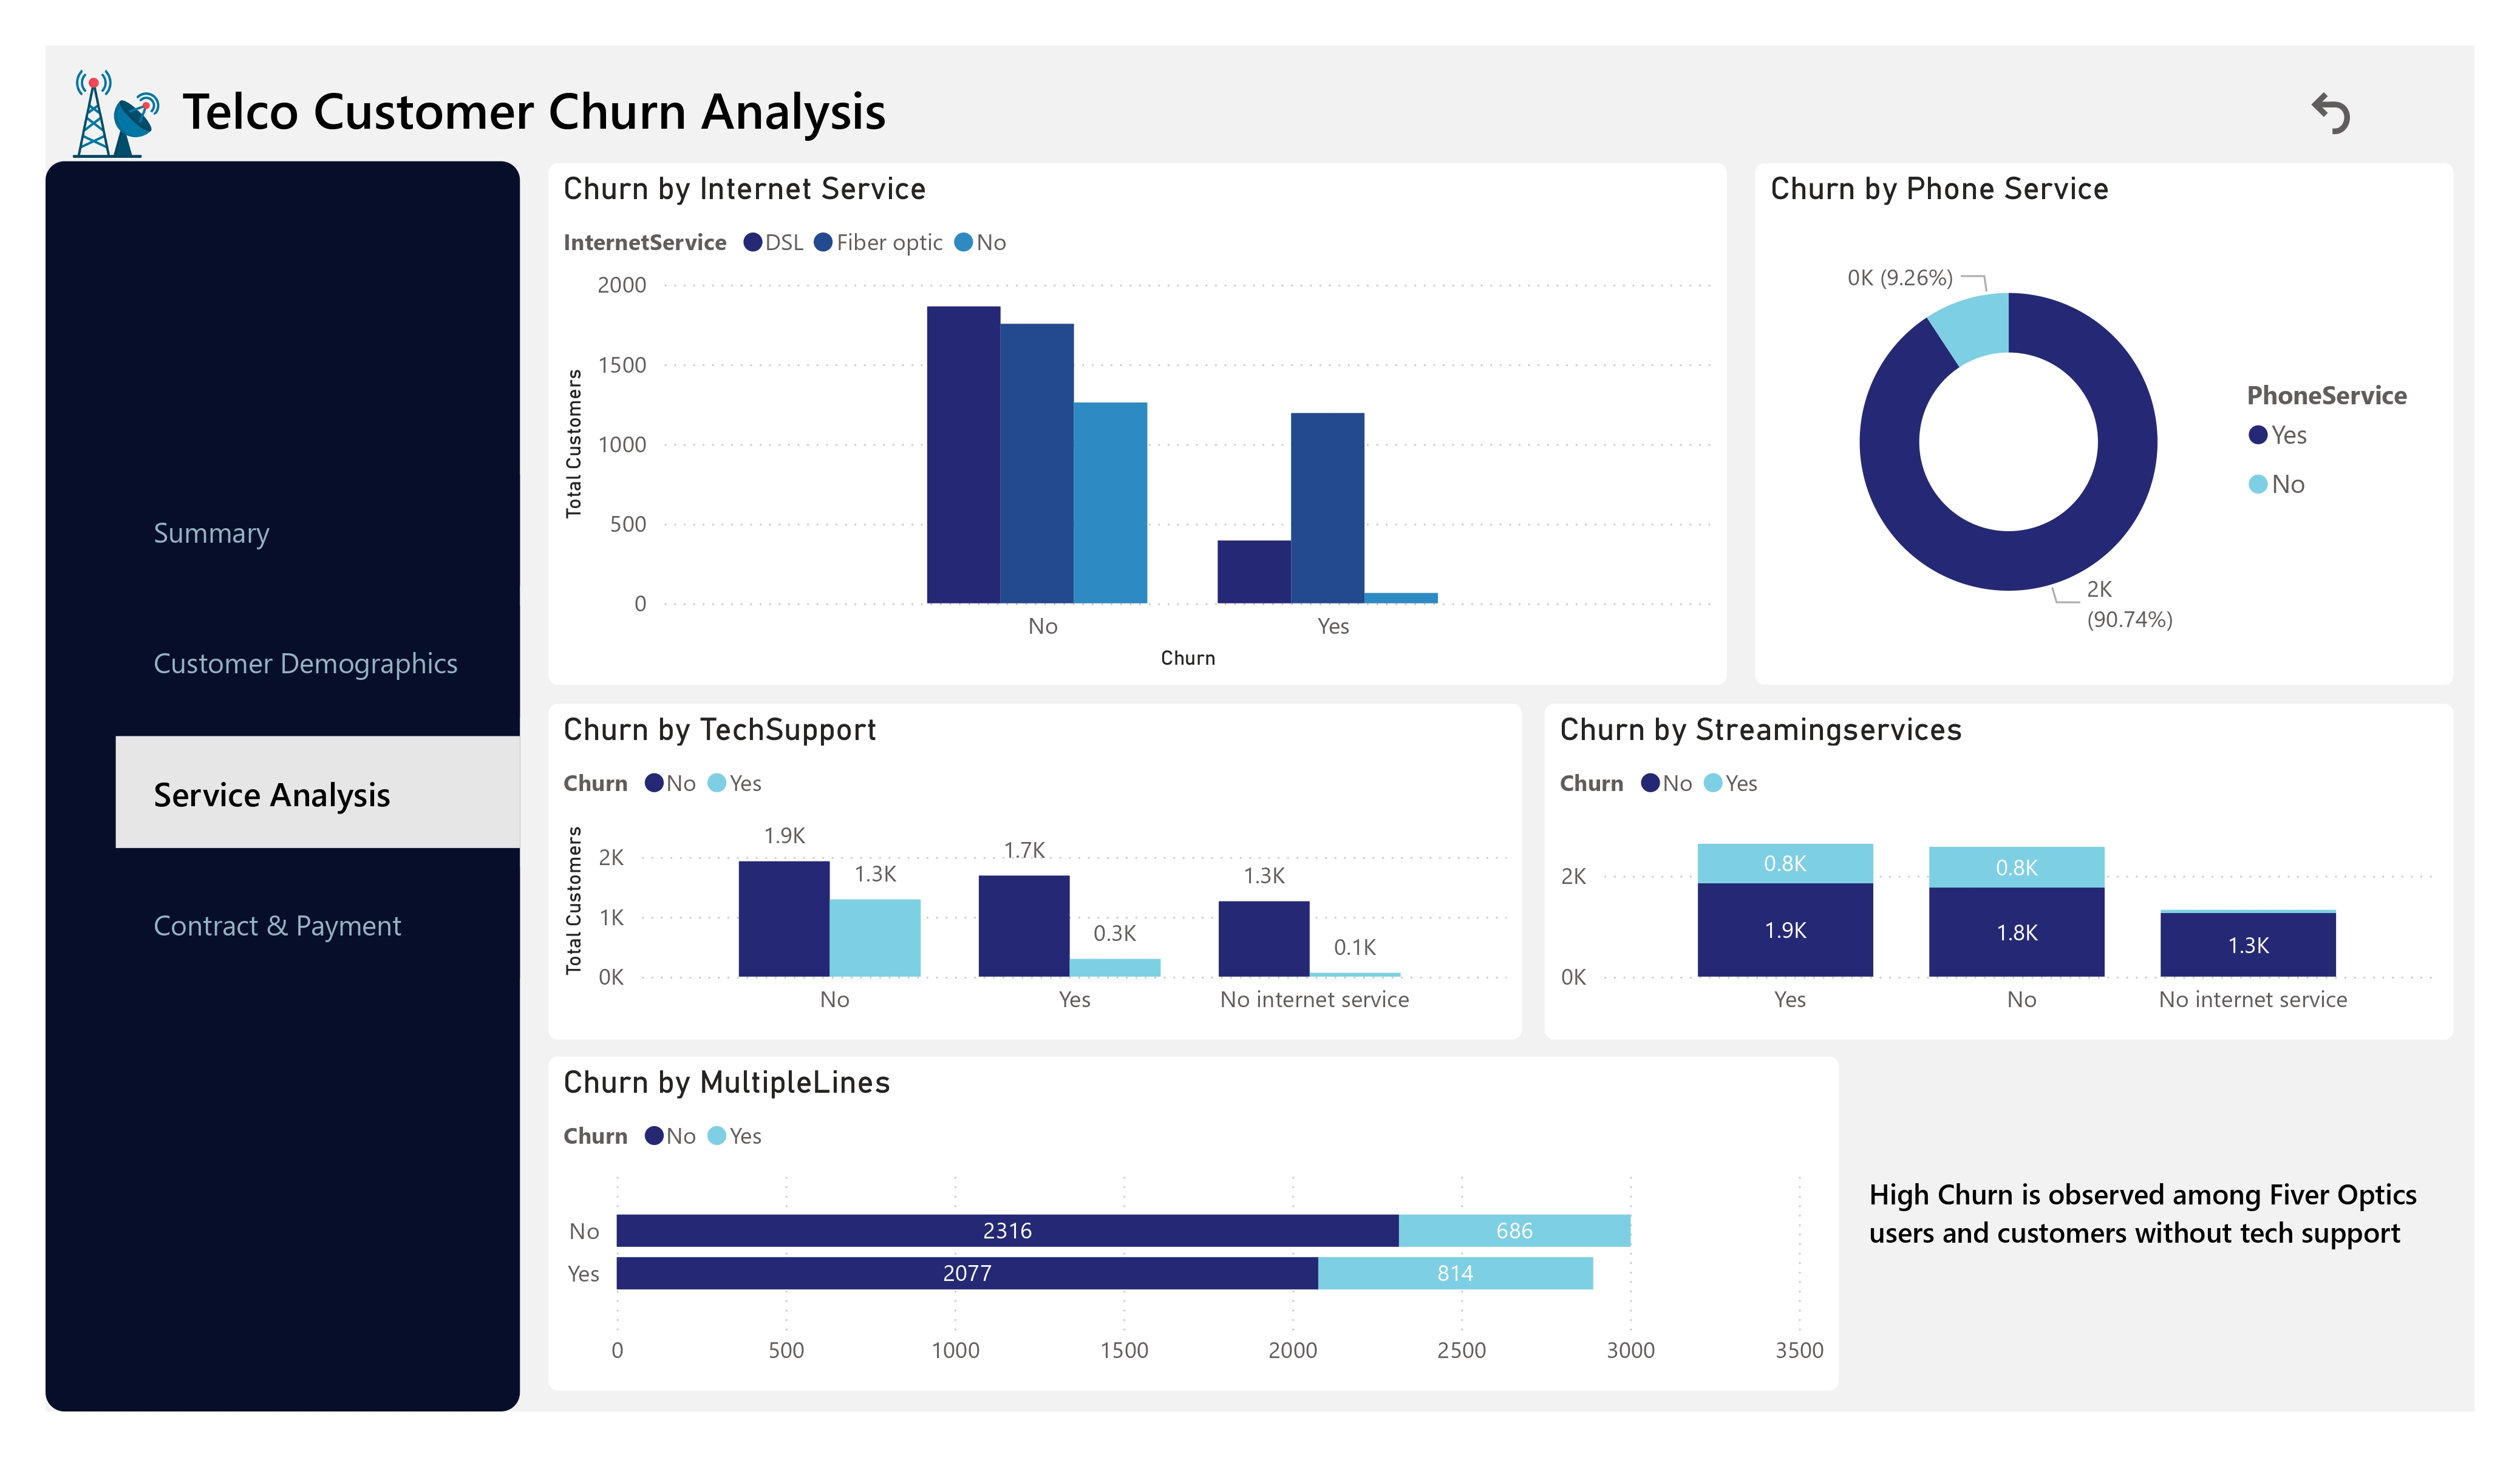

This screenshot's page, from the dashboard's own definition file:
{"tool":"powerbi","page":{"name":"Service Analysis","canvas":[1280,720],"ordinal":2},"visuals":[{"type":"shape","box":[0,61,250,659],"z":0},{"type":"pageNavigator","box":[36.8,226.3,213.2,267.1],"z":1000},{"type":"textbox","box":[66.7,10.3,396.2,51.3],"z":2000},{"type":"image","box":[14.1,0,46.2,70.5],"z":3000},{"type":"clusteredColumnChart","title":" Churn by Internet Service","fields":{"Series":["Telco-Customer-Churn.InternetService"],"Category":["Telco-Customer-Churn.Churn"],"Y":["Telco-Customer-Churn.Total Customers"]},"box":[265.4,61.5,620.5,275.6],"z":4000},{"type":"donutChart","title":"Churn by Phone Service","fields":{"Category":["Telco-Customer-Churn.PhoneService"],"Y":["Telco-Customer-Churn.Total Customers"]},"box":[901.3,61.5,367.9,275.6],"z":5000},{"type":"barChart","title":"Churn by MultipleLines ","fields":{"Category":["Telco-Customer-Churn.MultipleLines"],"Series":["Telco-Customer-Churn.Churn"],"Y":["Telco-Customer-Churn.Total Customers"]},"box":[265.4,533.3,679.5,175.6],"z":6000},{"type":"columnChart","title":" Churn  by Streamingservices ","fields":{"Category":["Telco-Customer-Churn.StreamingTV"],"Series":["Telco-Customer-Churn.Churn"],"Y":["Telco-Customer-Churn.Total Customers"]},"box":[789.7,347.4,479.5,176.9],"z":7000},{"type":"clusteredColumnChart","title":"Churn  by TechSupport ","fields":{"Y":["Telco-Customer-Churn.Total Customers"],"Series":["Telco-Customer-Churn.Churn"],"Category":["Telco-Customer-Churn.TechSupport"]},"box":[265.4,347.4,512.8,176.9],"z":8000},{"type":"textbox","box":[956.4,589.7,312.8,85.9],"z":9000},{"type":"actionButton","box":[1188.6,20,68.6,31.4],"z":10000}]}

Visuals, with their boxes on the page's 1280x720 design canvas (x1, y1, x2, y2). These are canvas units, not pixel positions in the 2520x1457 screenshot, which may show the page scaled, cropped or inside an application window:
shape: detection(0, 61, 250, 720)
pageNavigator: detection(37, 226, 250, 493)
textbox: detection(67, 10, 463, 62)
image: detection(14, 0, 60, 70)
" Churn by Internet Service" clusteredColumnChart: detection(265, 62, 886, 337)
"Churn by Phone Service" donutChart: detection(901, 62, 1269, 337)
"Churn by MultipleLines " barChart: detection(265, 533, 945, 709)
" Churn  by Streamingservices " columnChart: detection(790, 347, 1269, 524)
"Churn  by TechSupport " clusteredColumnChart: detection(265, 347, 778, 524)
textbox: detection(956, 590, 1269, 676)
actionButton: detection(1189, 20, 1257, 51)
